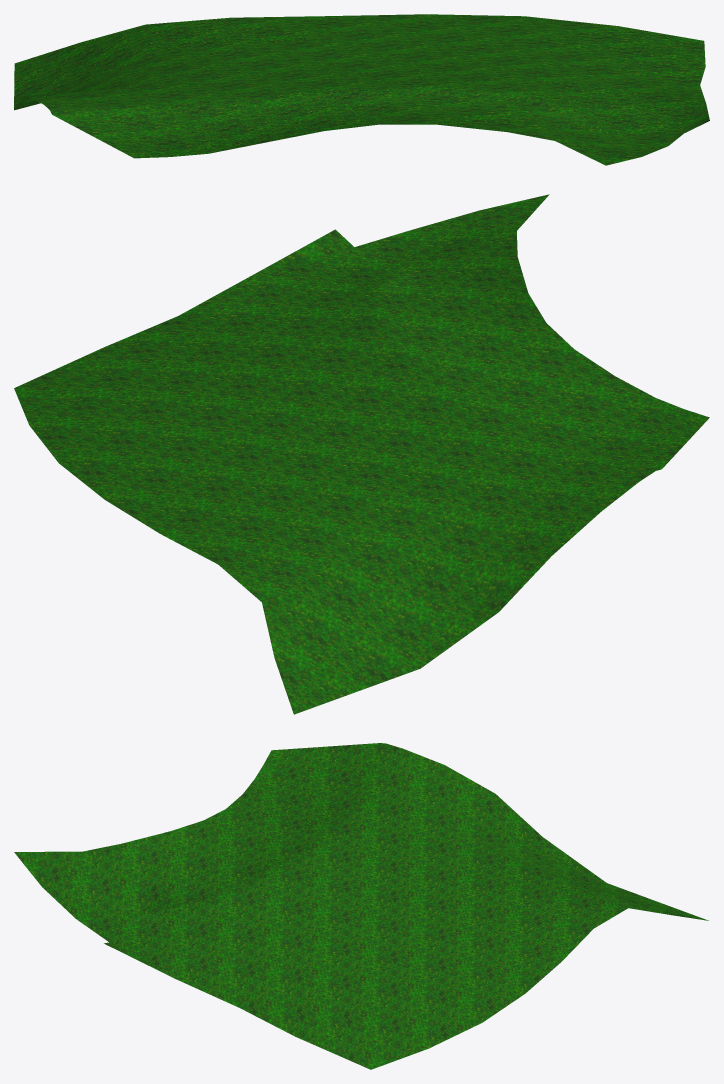
The model's file is HTOWN01_PS28.fbx.
The picture shows the model from 3 angles, top to bottom: view 1: azimuth 30°, elevation 25°; view 2: azimuth 150°, elevation 25°; view 3: azimuth 270°, elevation 25°; orthographic projection. The views are drawn at different scales.
Parts seen in each view (by area): view 1: HTOWN01_PS28; view 2: HTOWN01_PS28; view 3: HTOWN01_PS28.
Boxes of the visible parts, bbox=[...] form: HTOWN01_PS28: bbox=[14, 14, 709, 165]; HTOWN01_PS28: bbox=[14, 194, 709, 714]; HTOWN01_PS28: bbox=[14, 743, 708, 1069].
Size of the model in its own units: 267110 by 65446 by 301937.
1 material, 1 textured.
